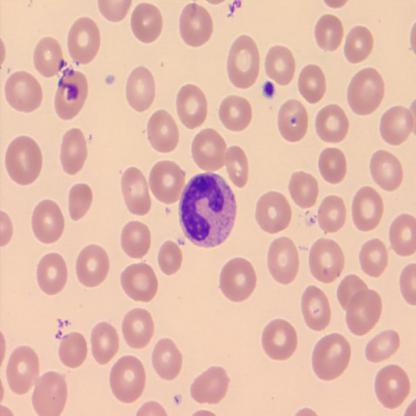Band Neutrophil: (177, 166, 238, 251)
